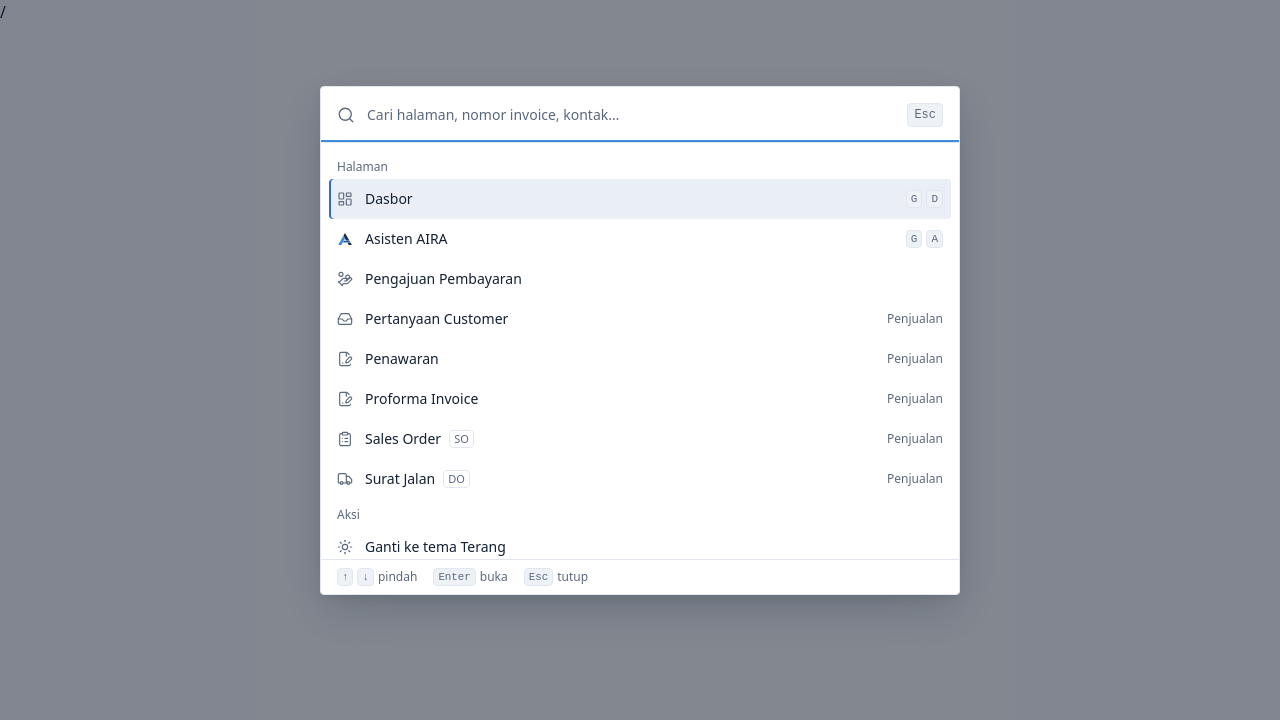
CommandPalette › finds pages by label and keyword, opens them with arrows + Enter, then closes
Type "general ledger" into the dropdown at (631, 115), box [367,87,895,142]
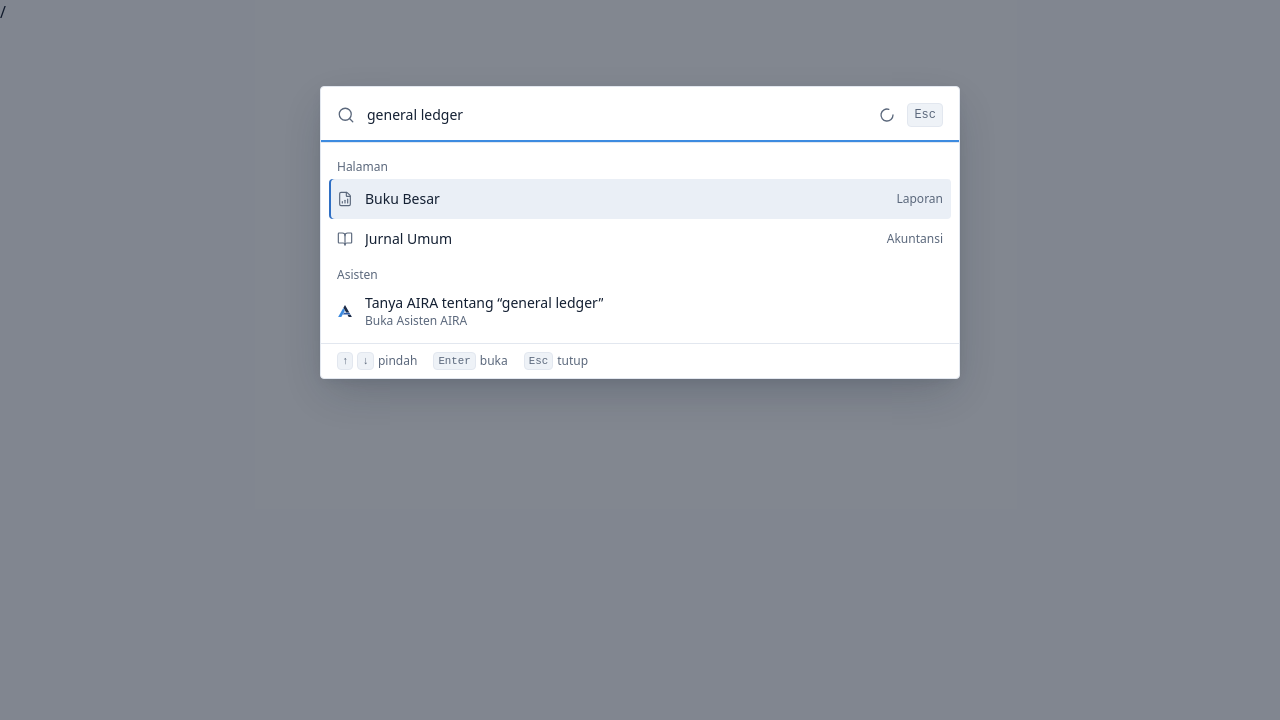
// Arrow down to the page if it is not first, then Enter opens it.
Press ArrowDown in the dropdown, box [367,87,867,142]
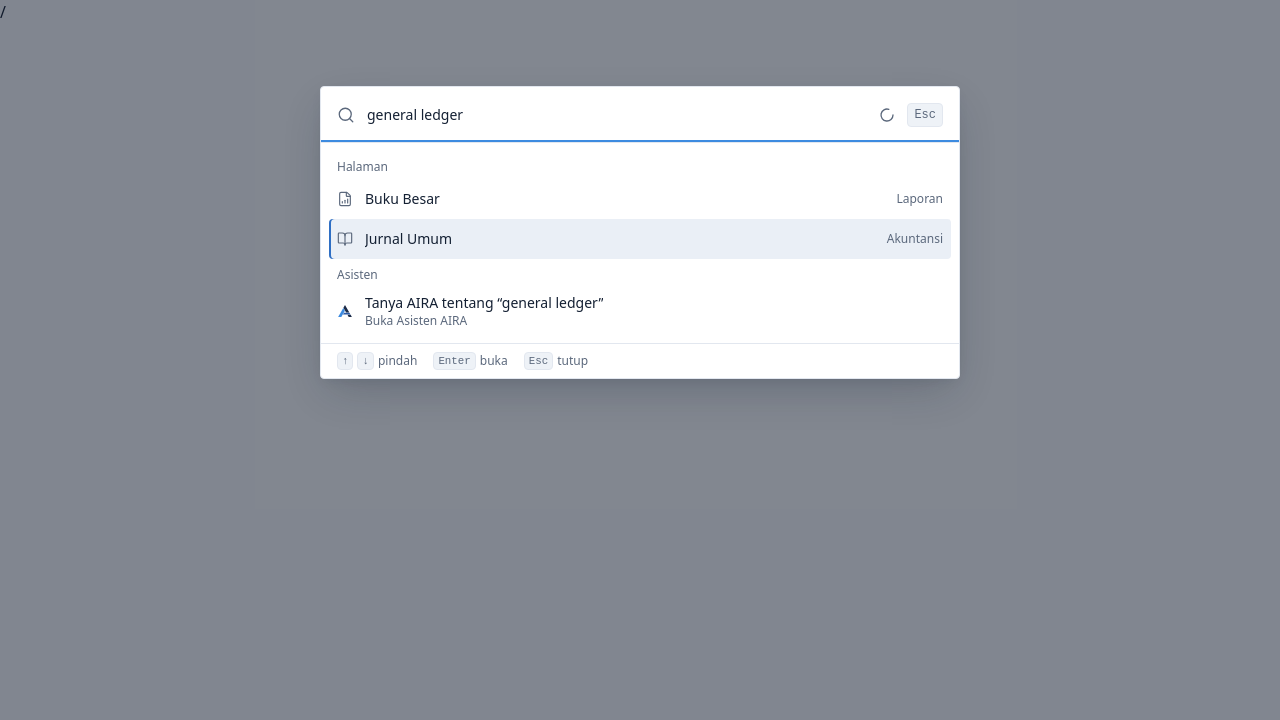
Press Enter in the dropdown, box [367,87,867,142]
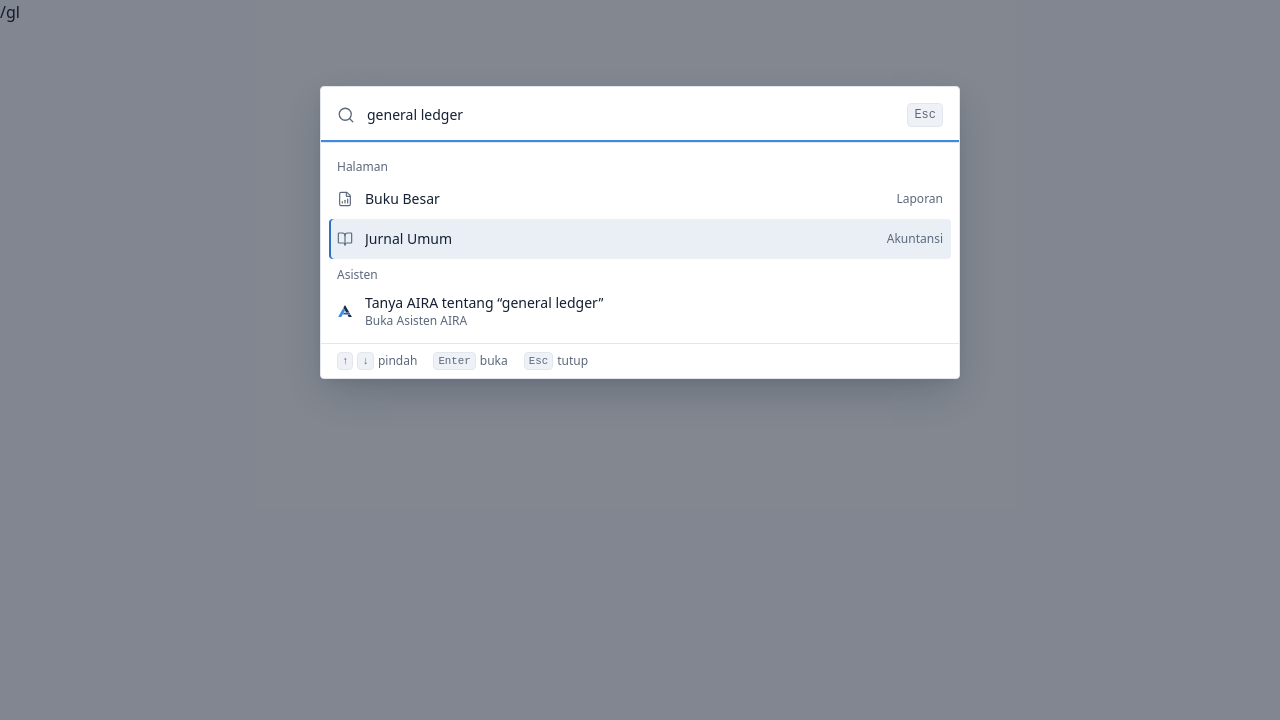
Result: the text with test id "path" reads "/gl" at [0,1,20,23]
